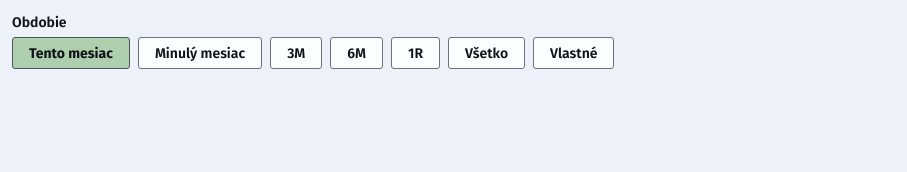
Test case: ignores invalid stored period null and keeps period controls working
What coordinates should you click on to do the following:
click the button "Vlastné"
I would click on:
 (574, 53)
Its box is [533,37,614,69].
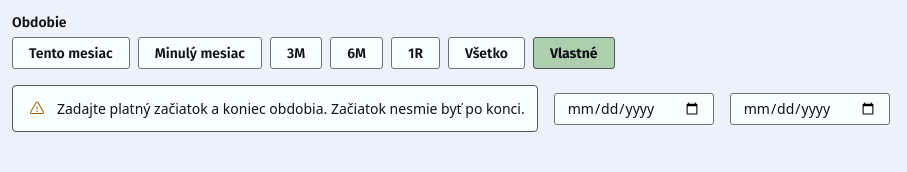
Expected: the message shows "Zadajte platný", [57,99,525,118]
